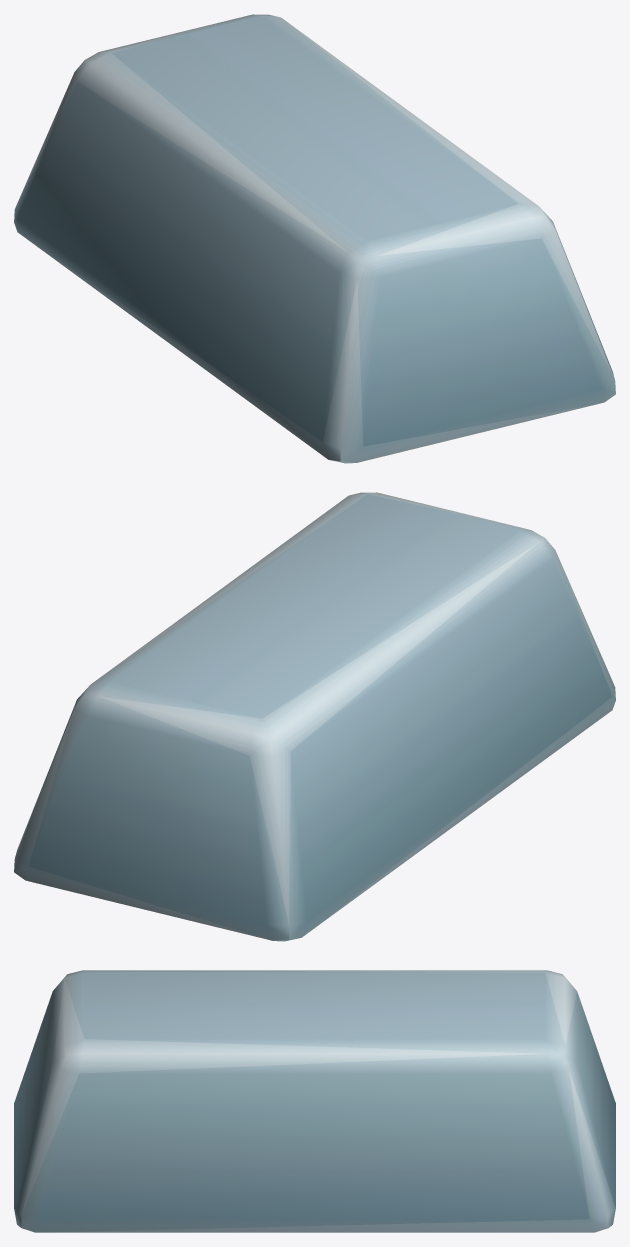
The model's file is silver_bar.glb.
3 views of the same model, one above another, from view 1: azimuth 30°, elevation 25°; view 2: azimuth 150°, elevation 25°; view 3: azimuth 270°, elevation 25° (orthographic). The views are drawn at different scales.
Parts seen in each view (by area): view 1: Silver_Bar; view 2: Silver_Bar; view 3: Silver_Bar.
Boxes of the visible parts, x1,y1,x2,y2 form: Silver_Bar: [14, 14, 615, 463]; Silver_Bar: [14, 492, 615, 941]; Silver_Bar: [14, 970, 615, 1232].
Bounding box in the file's own units: 0.4001 × 0.25 × 0.8.
1 material, 1 textured.
